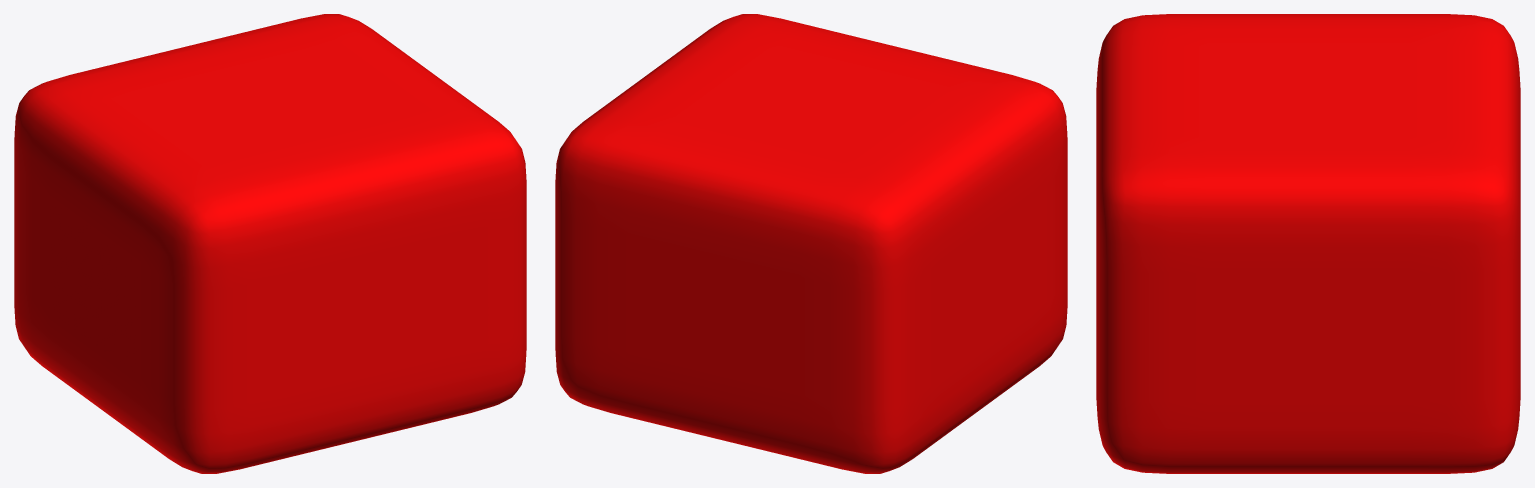
File: cube_rose-unity-1.fbx
3 views of the same model, side by side, from view 1: azimuth 30°, elevation 25°; view 2: azimuth 150°, elevation 25°; view 3: azimuth 270°, elevation 25° (orthographic). The views are drawn at different scales.
Parts seen in each view (by area): view 1: cube_rose1; view 2: cube_rose1; view 3: cube_rose1.
Boxes of the visible parts, bbox=[...] form: cube_rose1: bbox=[14, 14, 526, 473]; cube_rose1: bbox=[555, 14, 1067, 473]; cube_rose1: bbox=[1096, 14, 1520, 473].
Size of the model in its own units: 23.01 by 17.49 by 22.08.
